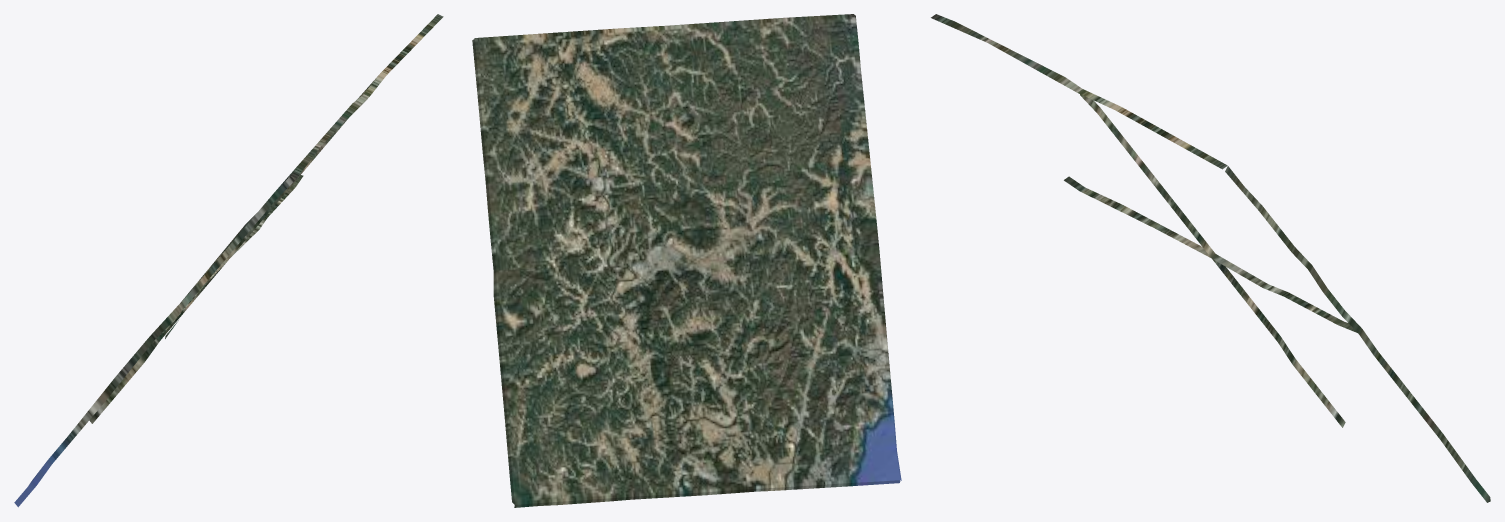
3 views of the same model, side by side, from view 1: azimuth 30°, elevation 25°; view 2: azimuth 150°, elevation 25°; view 3: azimuth 270°, elevation 25° (orthographic). The views are drawn at different scales.
Size of the model in its own units: 158548 by 129496 by 152969.
1 material, 1 textured.
